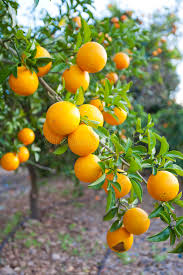orange: (103, 166, 135, 202), (46, 102, 80, 134), (59, 61, 89, 96), (76, 40, 107, 73), (76, 152, 106, 185), (149, 171, 178, 204), (70, 125, 102, 153), (122, 206, 151, 236), (12, 64, 39, 94), (104, 227, 134, 252)
